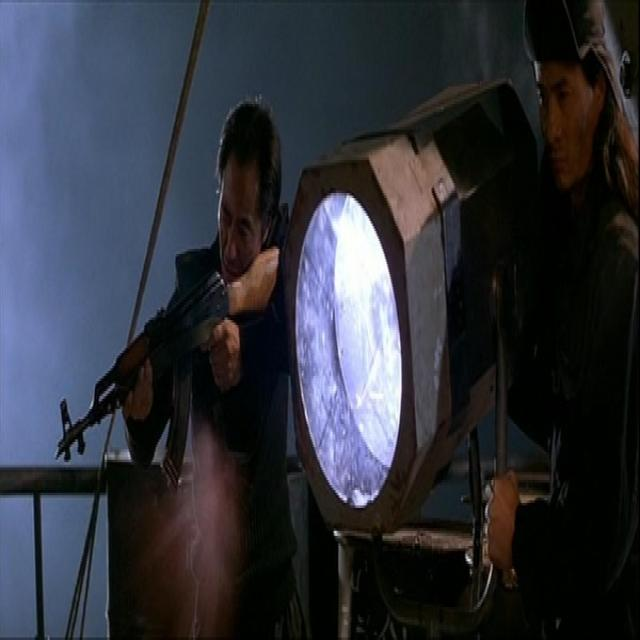rifle: (55, 240, 287, 475)
